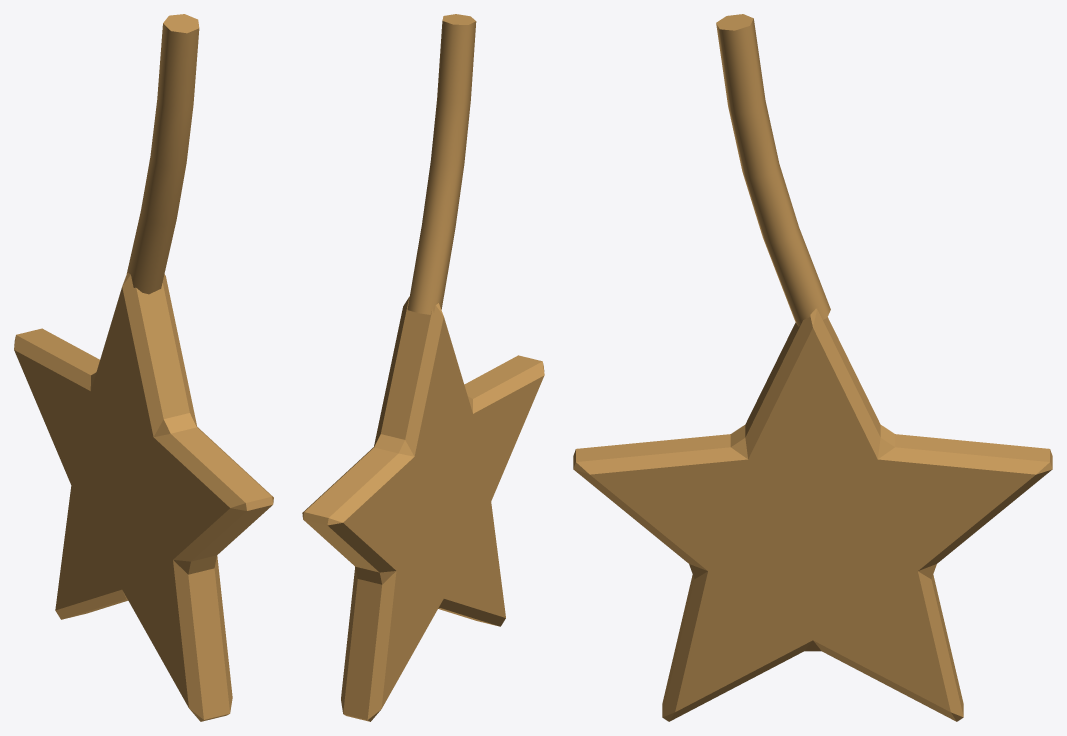
The model's file is SM_Menu_MoonStarLeft.fbx.
3 renders of one model, left to right at view 1: azimuth 30°, elevation 25°; view 2: azimuth 150°, elevation 25°; view 3: azimuth 270°, elevation 25°, orthographic. The views are drawn at different scales.
Parts seen in each view (by area): view 1: SM_Menu_MoonStarLeft; view 2: SM_Menu_MoonStarLeft; view 3: SM_Menu_MoonStarLeft.
Boxes of the visible parts, x1,y1,x2,y2 form: SM_Menu_MoonStarLeft: (14, 14, 273, 721); SM_Menu_MoonStarLeft: (302, 14, 544, 721); SM_Menu_MoonStarLeft: (573, 14, 1052, 721).
Bounding box in the file's own units: 4 × 36.85 × 58.97.
